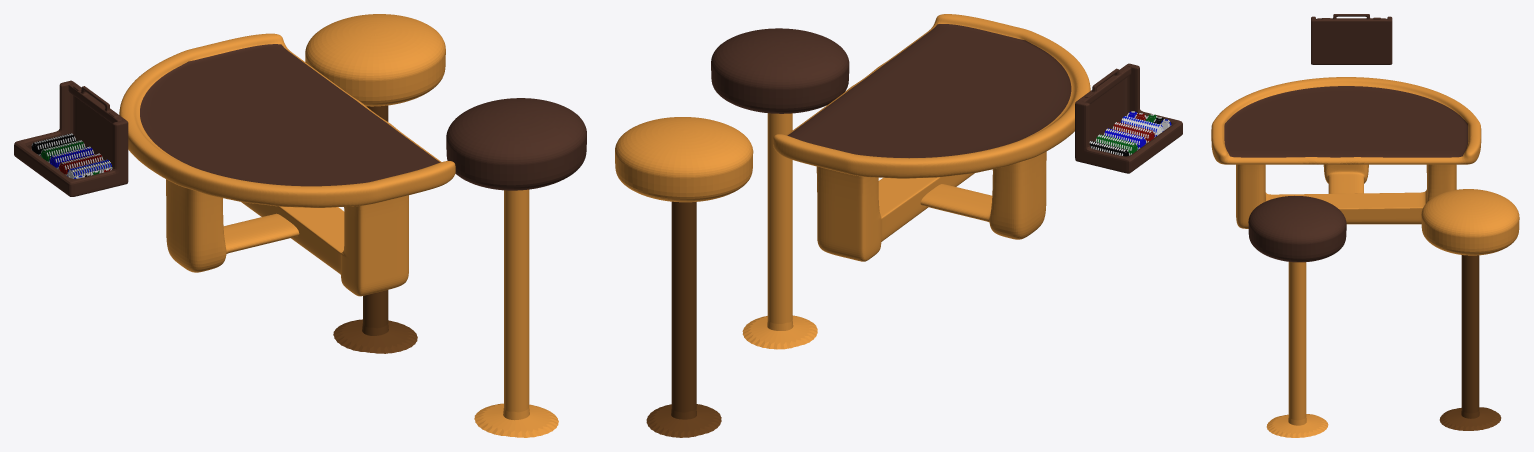
File: Casino_Interior.fbx
3 views of the same model, side by side, from view 1: azimuth 30°, elevation 25°; view 2: azimuth 150°, elevation 25°; view 3: azimuth 270°, elevation 25° (orthographic). The views are drawn at different scales.
Parts seen in each view (by area): view 1: Cylinder.031, Sphere.001, Sphere.003, Cube.068; view 2: Cylinder.031, Sphere.003, Sphere.001, Cube.068; view 3: Cylinder.031, Sphere.003, Sphere.001, Cube.068.
Boxes of the visible parts, box(x1,y1,x2,y2) form: Cylinder.031: box(119, 33, 455, 296); Sphere.001: box(446, 98, 586, 437); Sphere.003: box(305, 14, 445, 353); Cube.068: box(14, 80, 128, 196); Cylinder.031: box(773, 14, 1090, 261); Sphere.003: box(615, 117, 753, 437); Sphere.001: box(711, 28, 849, 349); Cube.068: box(1075, 63, 1182, 173); Cylinder.031: box(1211, 77, 1481, 228); Sphere.003: box(1421, 189, 1519, 430); Sphere.001: box(1248, 196, 1346, 437); Cube.068: box(1311, 14, 1392, 64).
Bounding box in the file's own units: 43268 × 32477 × 32412.
